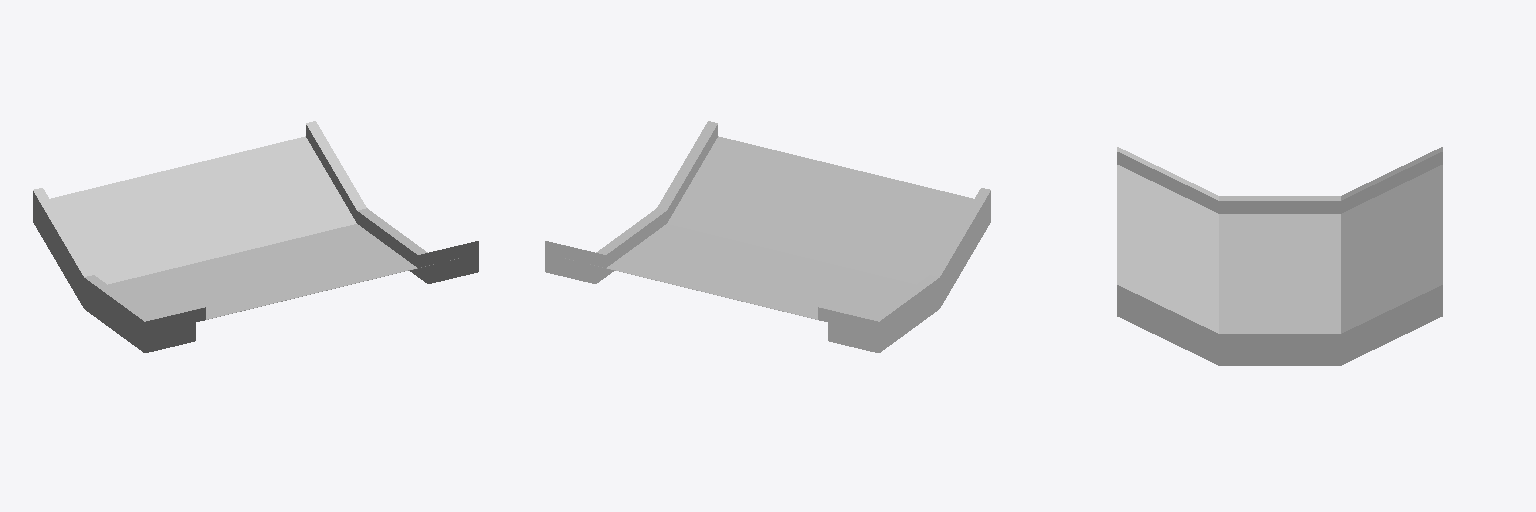
Rendered from straightDipRamp_B_3x3.obj.
3 views of the same model, side by side, from view 1: azimuth 30°, elevation 25°; view 2: azimuth 150°, elevation 25°; view 3: azimuth 270°, elevation 25° (orthographic).
Parts seen in each view (by area): view 1: straightDipRamp_B_3x3; view 2: straightDipRamp_B_3x3; view 3: straightDipRamp_B_3x3.
Boxes of the visible parts, box(x1,y1,x2,y2) form: straightDipRamp_B_3x3: box(33, 121, 478, 352); straightDipRamp_B_3x3: box(545, 121, 990, 352); straightDipRamp_B_3x3: box(1117, 147, 1442, 365).
Bounding box in the file's own units: 3 × 0.826 × 3.